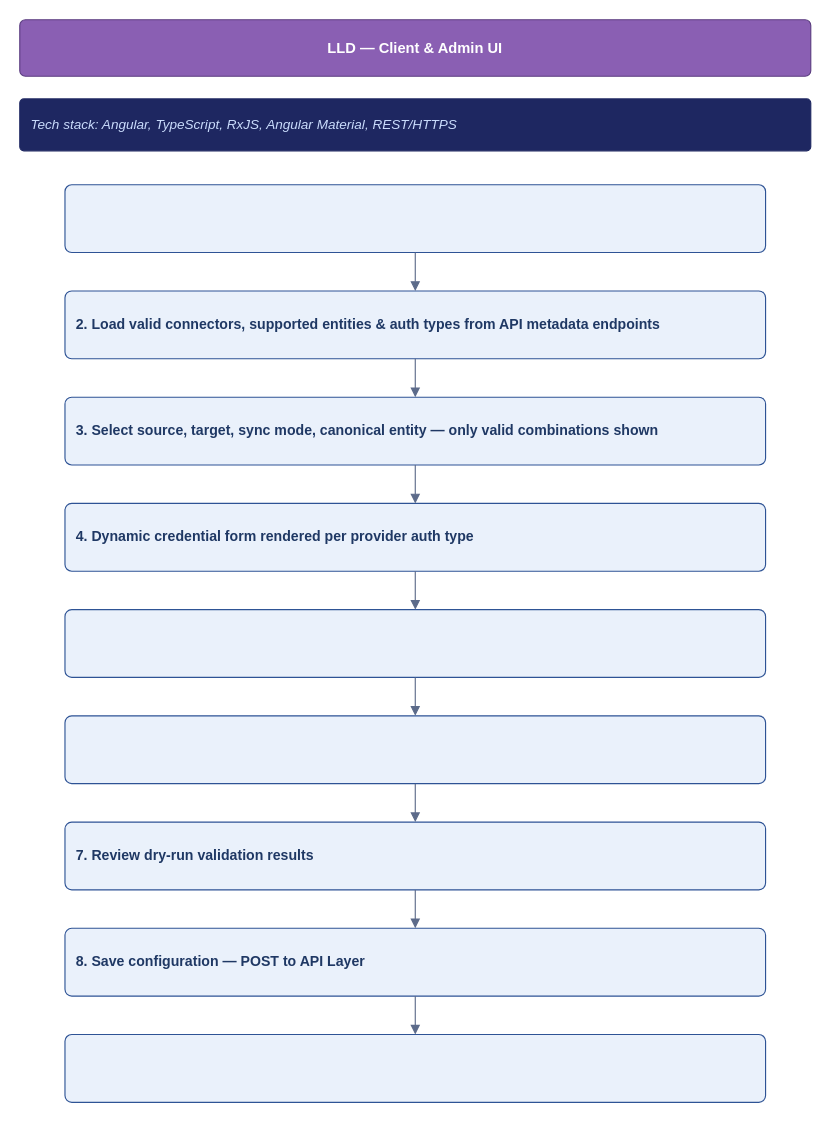
This 831x1122 diagram has some shape labels left out. Here are the shapes that lost their labels. From the top down, the centre of each, then its label:
point 415,218: 1. User authenticates (login) via API Layer
point 415,643: 5. "Test Connection" calls API → Connector & Auth Layer authenticate()
point 415,749: 6. Build/edit canonical mapping (field picker + dry-run preview)
point 415,1067: 9. Confirmation shown; config visible in dashboard
